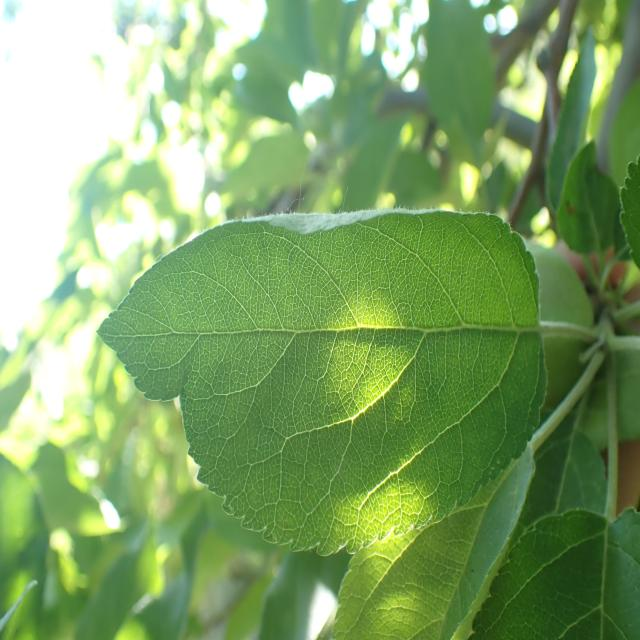healthy: (97, 205, 549, 557), (316, 435, 537, 640), (464, 506, 640, 640)
